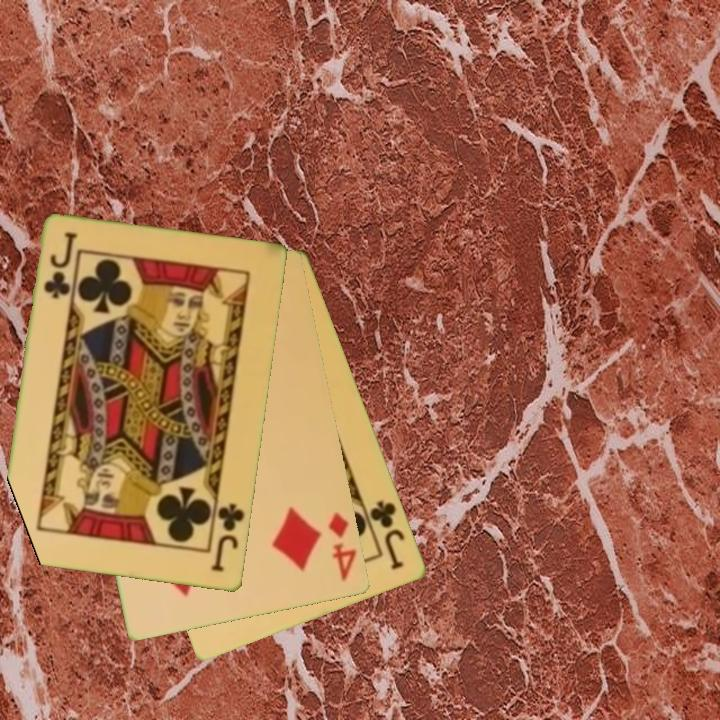4d: (325, 509, 360, 585)
Jc: (366, 497, 409, 573), (208, 495, 248, 575), (40, 229, 79, 302)
